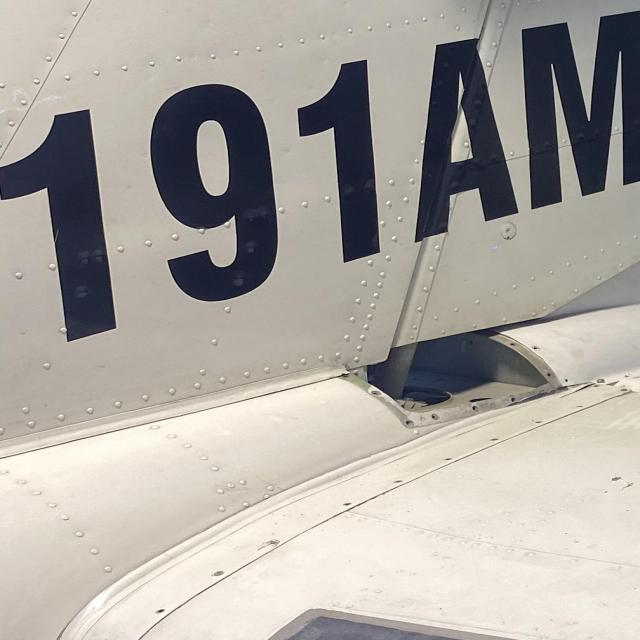Missing-head: (156, 608, 168, 614)
Paint-off: (618, 482, 637, 492), (608, 474, 625, 483), (601, 488, 609, 496)
